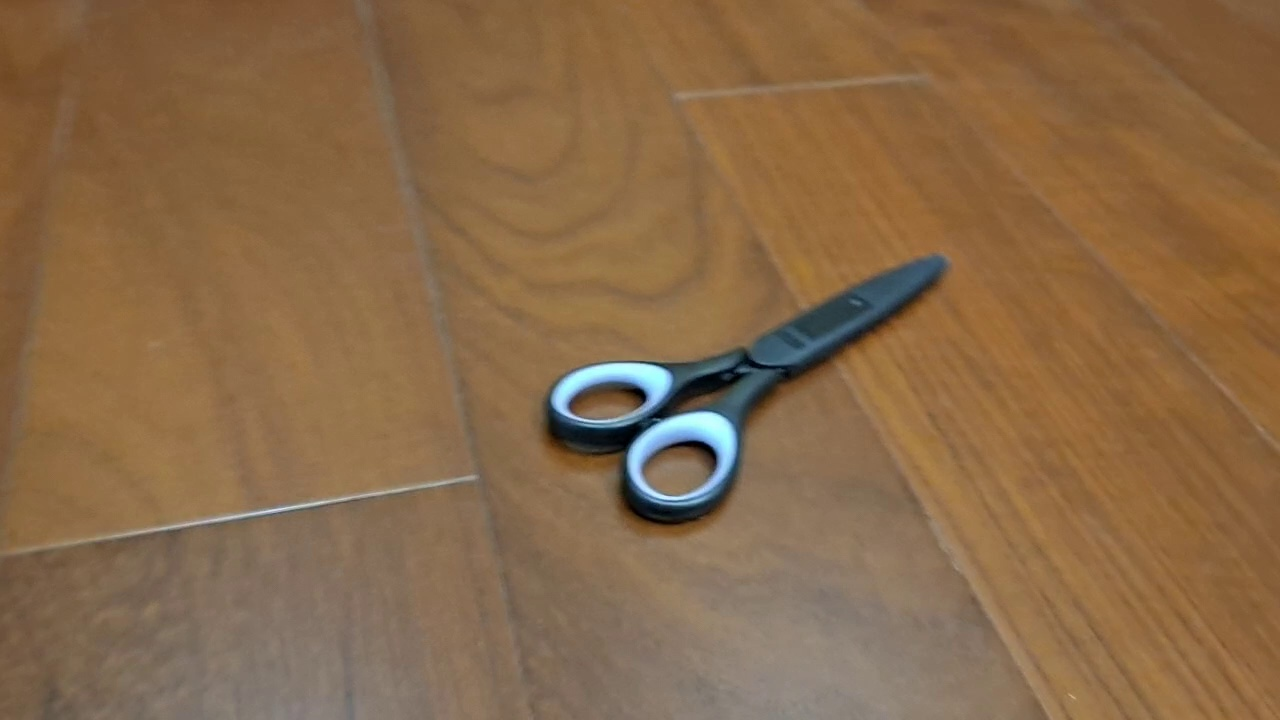scissors: (541, 251, 952, 526)
